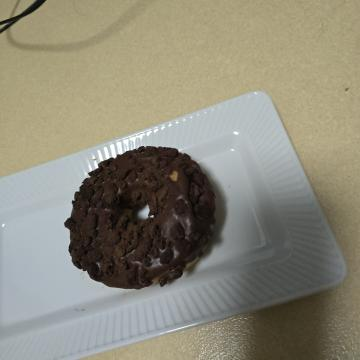doughnut: (125, 132, 293, 303)
